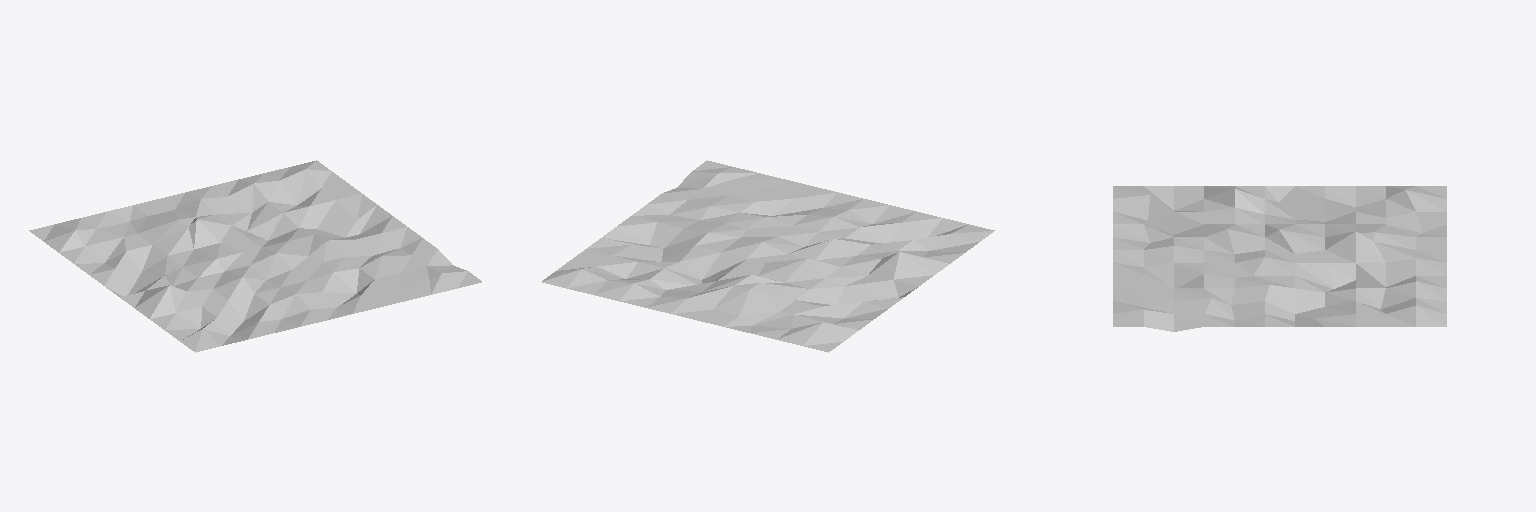
The model's file is bottom.obj.
3 views of the same model, side by side, from view 1: azimuth 30°, elevation 25°; view 2: azimuth 150°, elevation 25°; view 3: azimuth 270°, elevation 25° (orthographic).
Parts seen in each view (by area): view 1: Plane; view 2: Plane; view 3: Plane.
Part boxes in pixels (x1,y1,x2,y2): Plane: (29, 160, 481, 352); Plane: (542, 160, 994, 352); Plane: (1113, 186, 1446, 331).
Size of the model in its own units: 11.8 by 1.11 by 11.8.